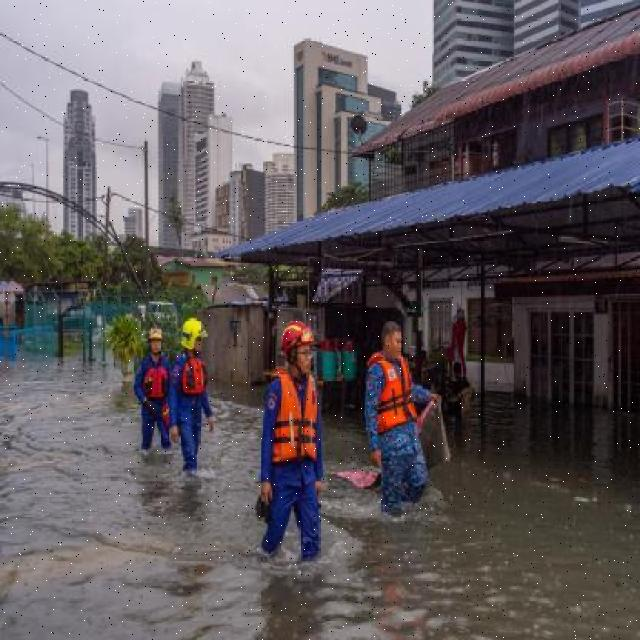rescuer: (260, 317, 330, 581), (368, 317, 433, 534), (176, 311, 216, 478), (138, 324, 170, 469)
